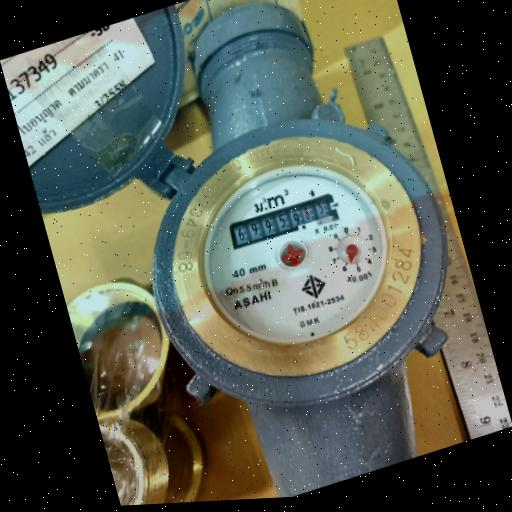5: (275, 210, 290, 232), (314, 198, 328, 219)
6: (234, 224, 248, 244)
8: (301, 203, 314, 222)
9: (248, 218, 263, 240), (262, 214, 277, 236), (290, 206, 303, 227)
border_water_meter_number: (229, 191, 340, 252)
